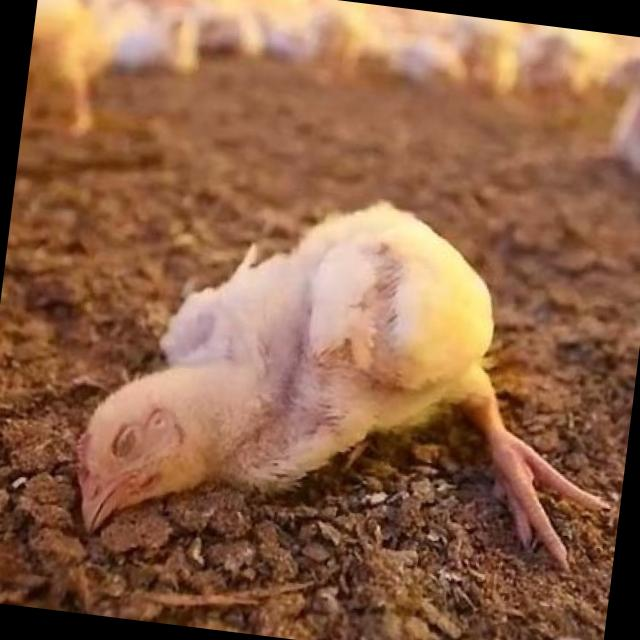dead: (54, 172, 639, 598)
